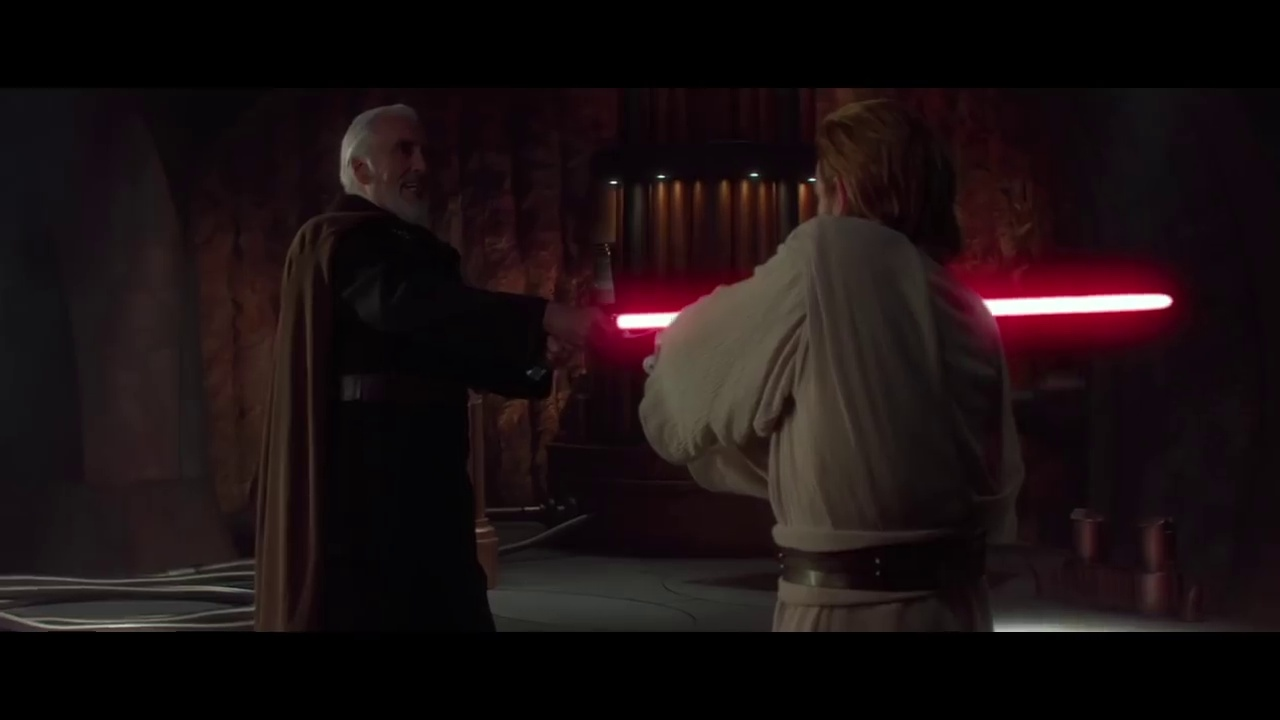lightsaber: (580, 284, 1191, 345)
